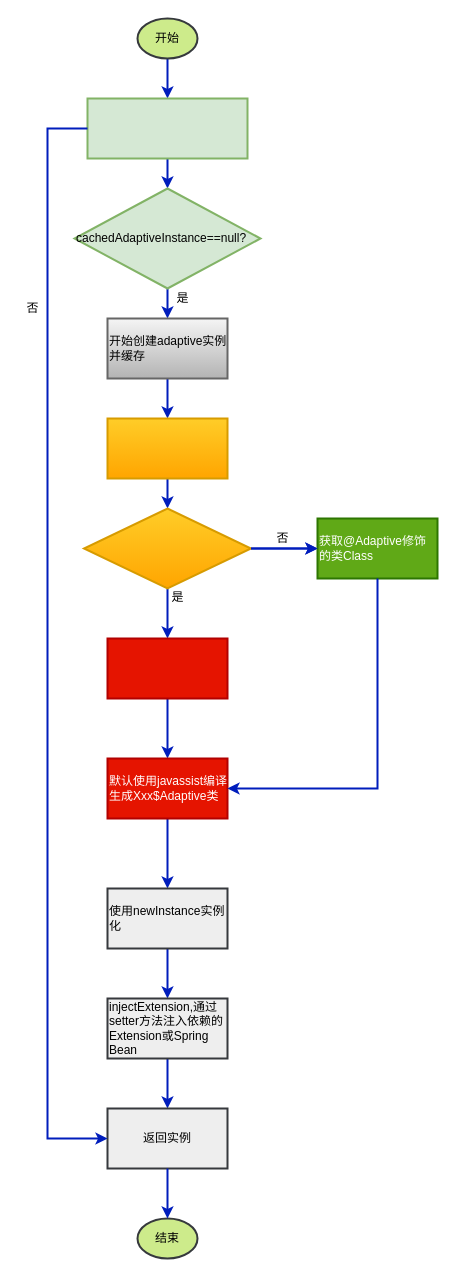
Image size: 455x1276. Some labels were removed from this diagram. Each missing label, with the centre of its shape:
cachedAdaptiveClass==null?: point 167,548
从ExtensionLoader获取缓存的cachedAdaptiveInstance: point 167,128
动态生成adaptive代码，字符串拼接: point 167,668
查询是否有@Adaptive修饰的类: point 167,448
